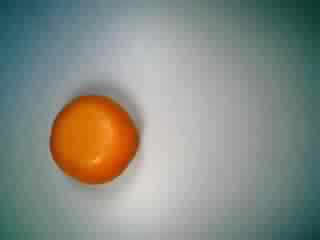orange: (44, 90, 139, 192)
